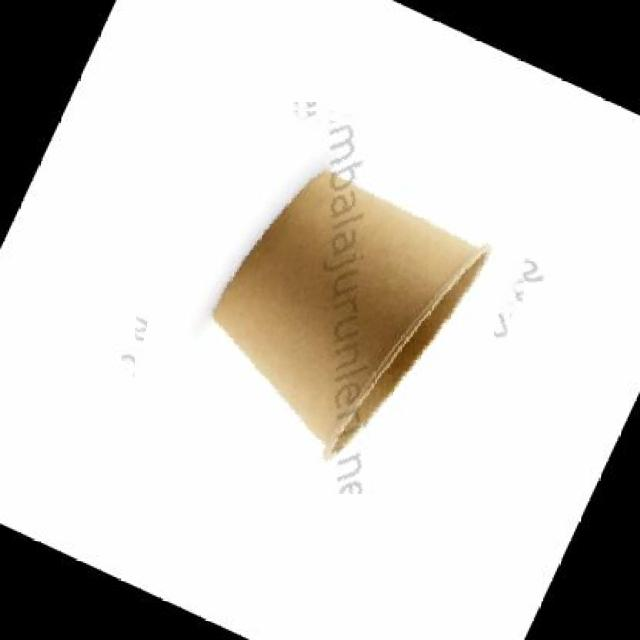non-biodegradable: (135, 100, 530, 494)
